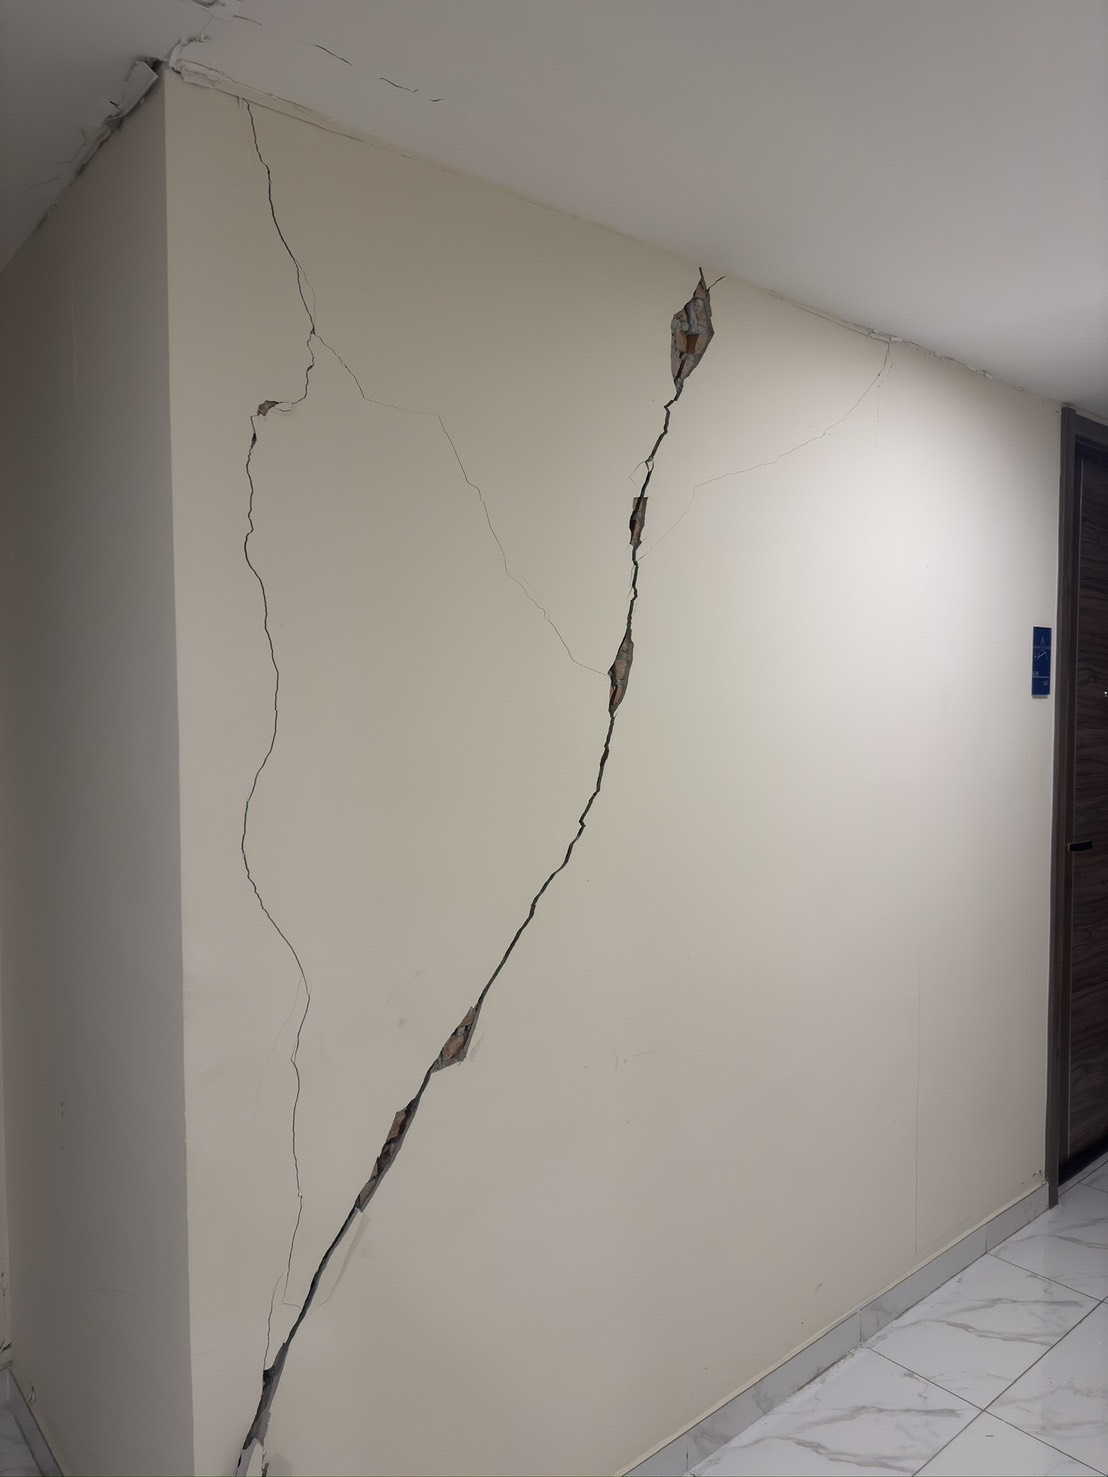Medium: (247, 495, 731, 1391)
